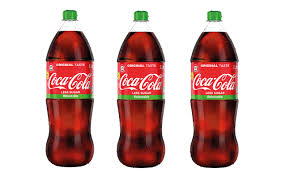coca_cola_bottle: (188, 10, 240, 168), (115, 5, 164, 167), (45, 9, 95, 166)
